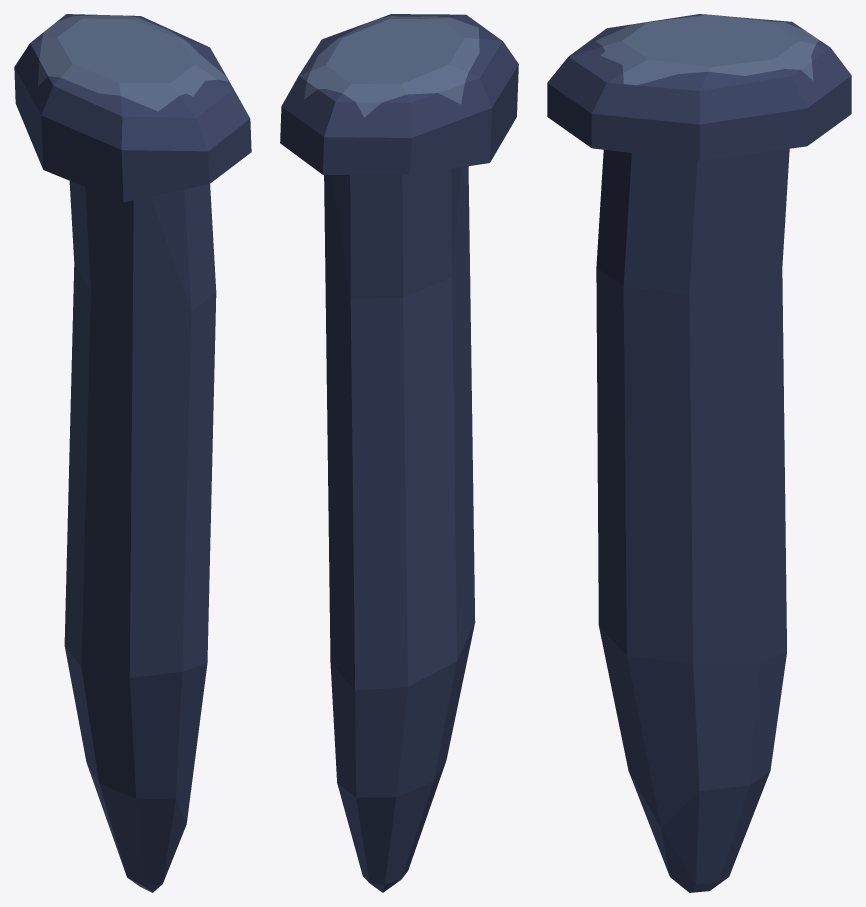
File: Chilsel_01.fbx
The picture shows the model from 3 angles, left to right: view 1: azimuth 30°, elevation 25°; view 2: azimuth 150°, elevation 25°; view 3: azimuth 270°, elevation 25°; orthographic projection.
Visible parts, largest first — view 1: PoorMan StoneChisel.001; view 2: PoorMan StoneChisel.001; view 3: PoorMan StoneChisel.001.
Boxes of the visible parts, x1,y1,x2,y2 form: PoorMan StoneChisel.001: (14, 14, 251, 892); PoorMan StoneChisel.001: (280, 14, 518, 892); PoorMan StoneChisel.001: (547, 14, 851, 892).
Size of the model in its own units: 10.75 by 46.96 by 15.36.
